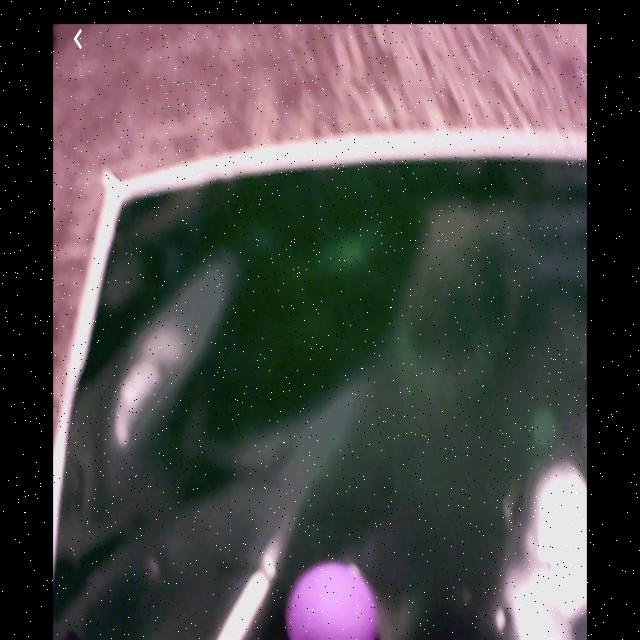ball: (289, 564, 381, 640)
